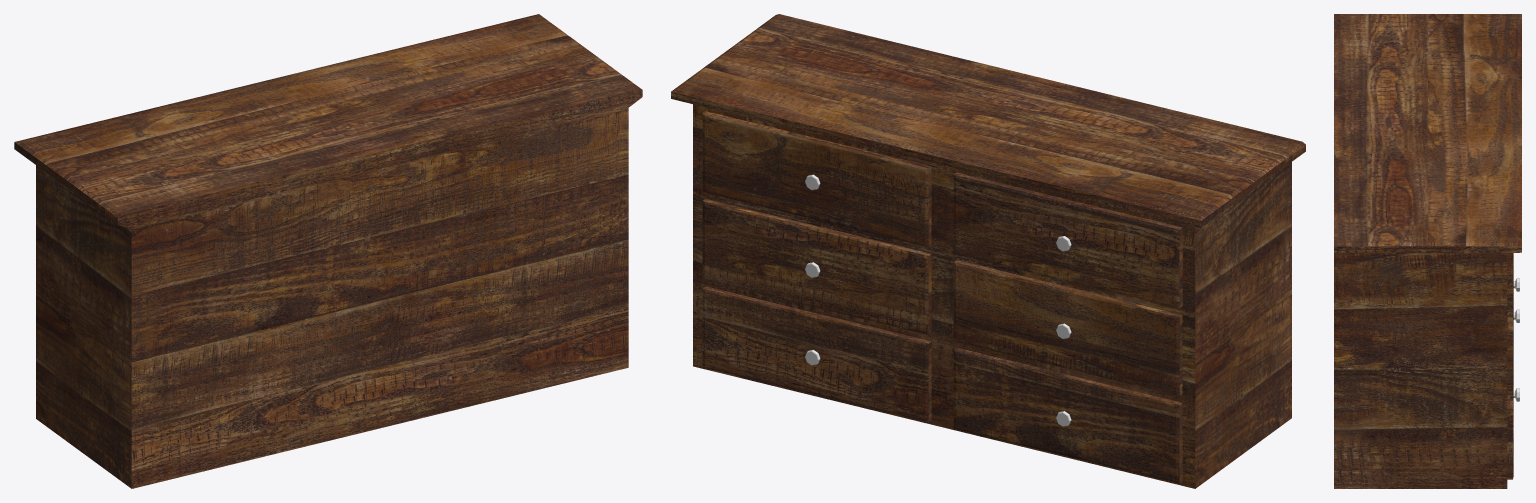
Rendered from dresser1.fbx.
3 renders of one model, left to right at view 1: azimuth 30°, elevation 25°; view 2: azimuth 150°, elevation 25°; view 3: azimuth 270°, elevation 25°, orthographic. The views are drawn at different scales.
Parts seen in each view (by area): view 1: Vetolaatikosto; view 2: Vetolaatikosto, Vetolaatikko.001; view 3: Vetolaatikosto.
Part boxes in pixels (x1=…): Vetolaatikosto: x1=14, y1=14, x2=642, y2=488; Vetolaatikosto: x1=671, y1=14, x2=1305, y2=488; Vetolaatikko.001: x1=953, y1=172, x2=1182, y2=308; Vetolaatikosto: x1=1334, y1=14, x2=1521, y2=488.
Bounding box in the file's own units: 1.93 × 0.6604 × 0.9715.
